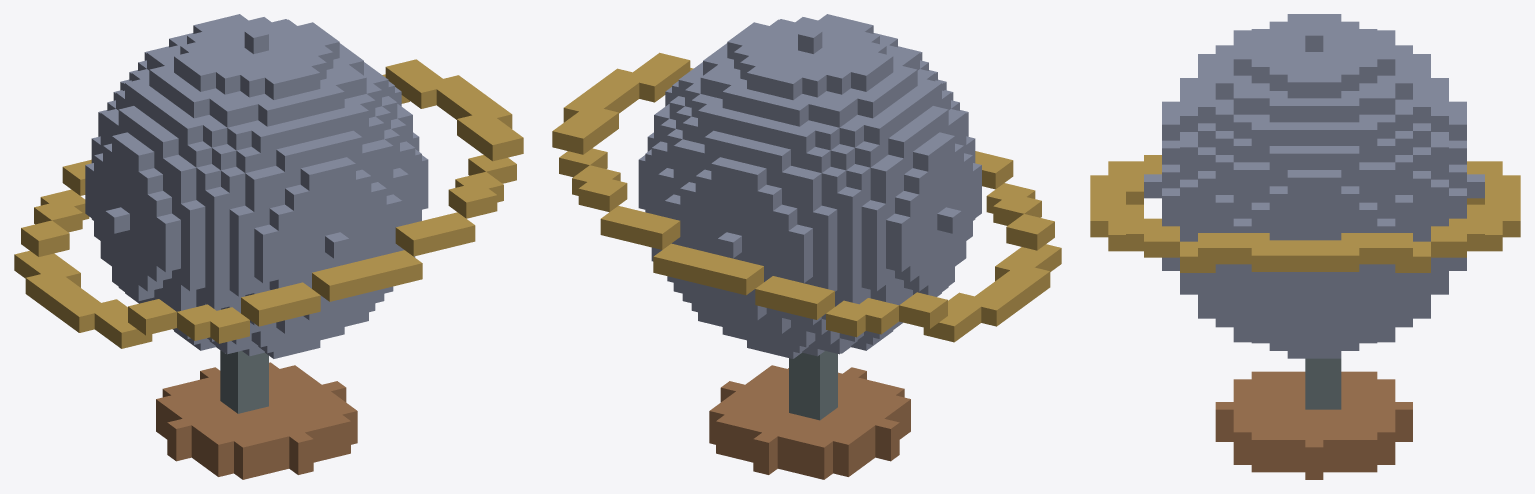
The model's file is aerospace-14.glb.
3 renders of one model, left to right at view 1: azimuth 30°, elevation 25°; view 2: azimuth 150°, elevation 25°; view 3: azimuth 270°, elevation 25°, orthographic.
Visible parts, largest first — view 1: Orbit model; view 2: Orbit model; view 3: Orbit model.
Part boxes in pixels (left/top/right/bottom): Orbit model: left=14, top=14, right=523, bottom=479; Orbit model: left=552, top=14, right=1061, bottom=479; Orbit model: left=1090, top=14, right=1520, bottom=479.
Size of the model in its own units: 2.24 by 2 by 1.92.
